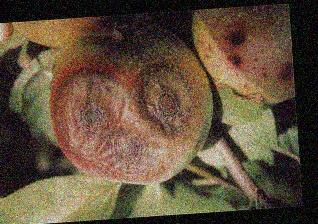rotten apple: (50, 20, 213, 185), (193, 6, 292, 108)
